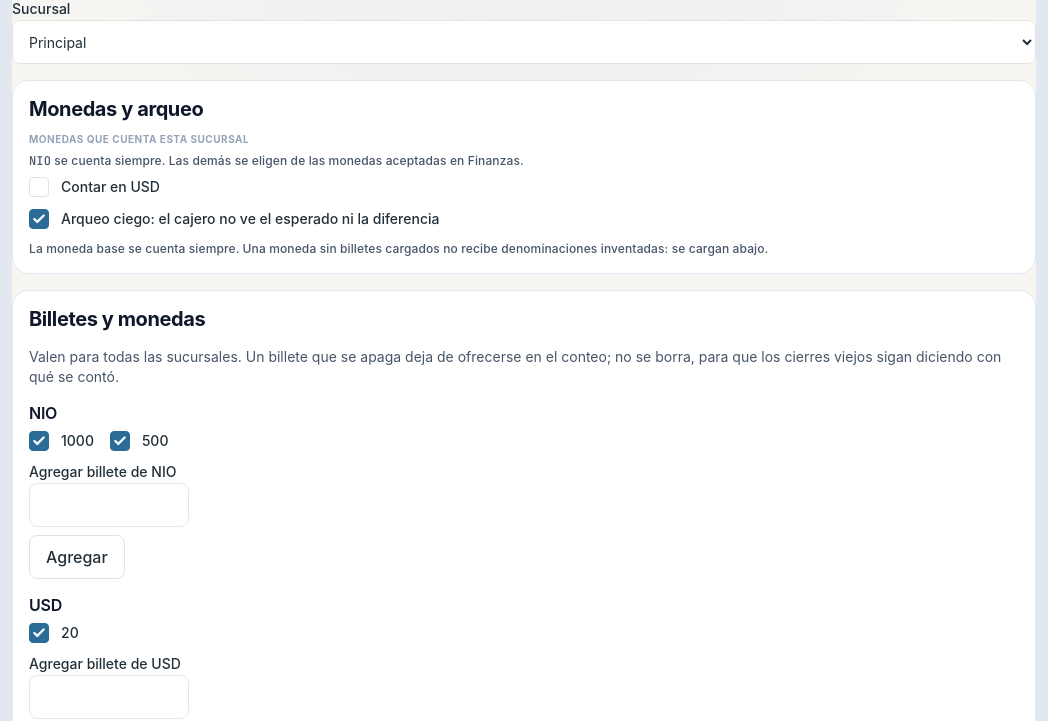
CashConfigClient › no deja agregar el mismo billete dos veces
Type "1000" into the number field labelled "Agregar billete de NIO" at {"x": 109, "y": 505}, box [29, 483, 189, 527]
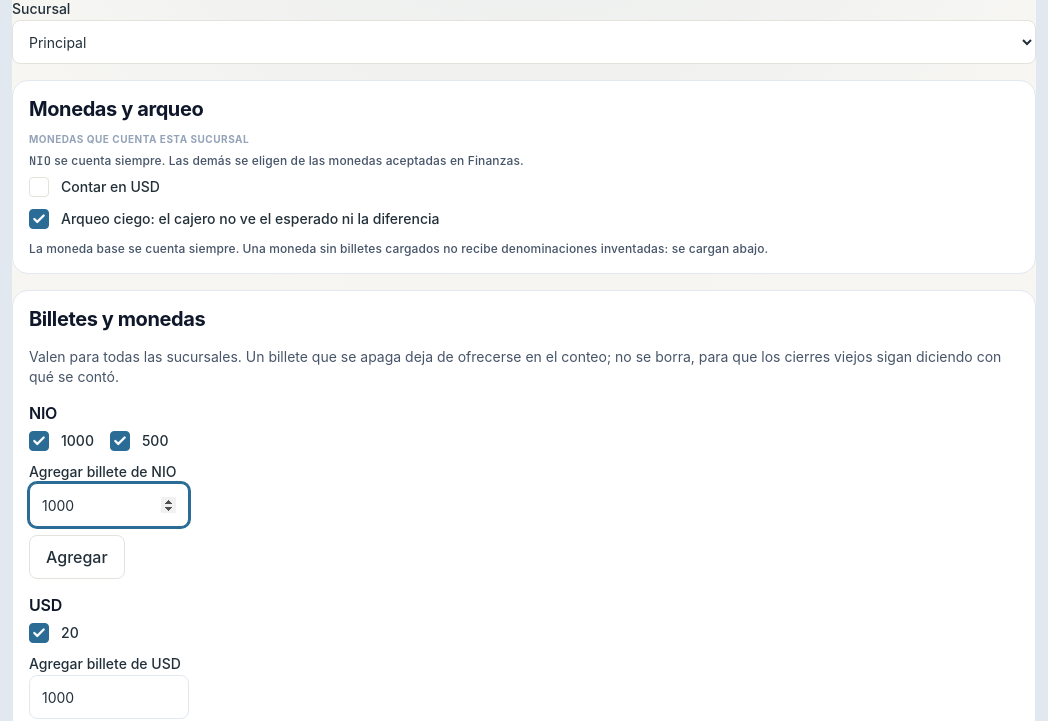
Click the button "Agregar" below "Agregar billete de NIO" at {"x": 77, "y": 557}, box [29, 535, 125, 579]
(page scrolled)
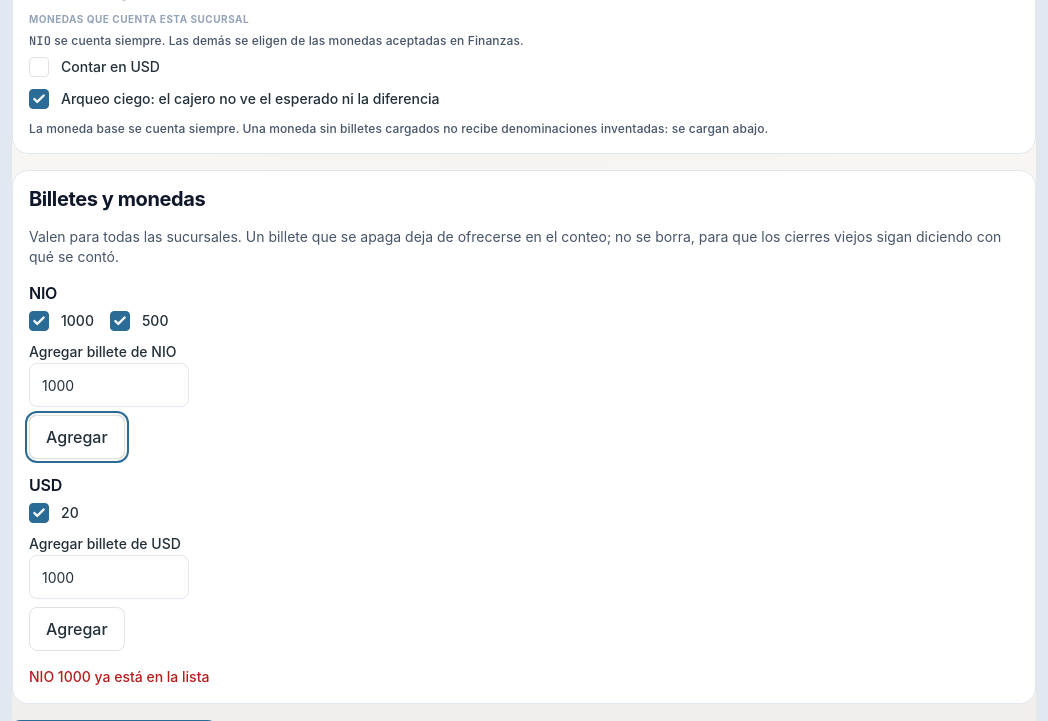
Expected: the message shows "ya está en la lista", [29, 668, 209, 685]
